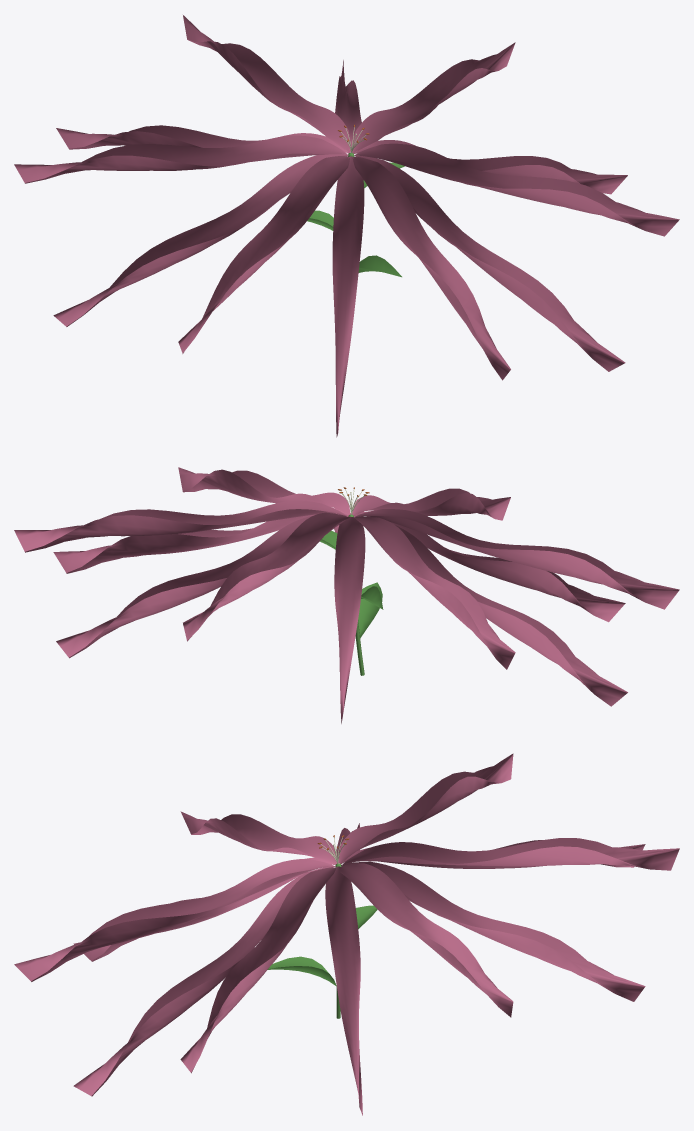
The model's file is lily-breath.glb.
The picture shows the model from 3 angles, top to bottom: view 1: azimuth 30°, elevation 25°; view 2: azimuth 150°, elevation 25°; view 3: azimuth 270°, elevation 25°; orthographic projection.
Visible parts, largest first — view 1: LilyBreath; view 2: LilyBreath; view 3: LilyBreath.
Part boxes in pixels (x1,y1,x2,y2): LilyBreath: [14, 15, 679, 437]; LilyBreath: [14, 467, 679, 723]; LilyBreath: [14, 753, 679, 1115].
Size of the model in its own units: 6.99 by 2.18 by 6.92.
